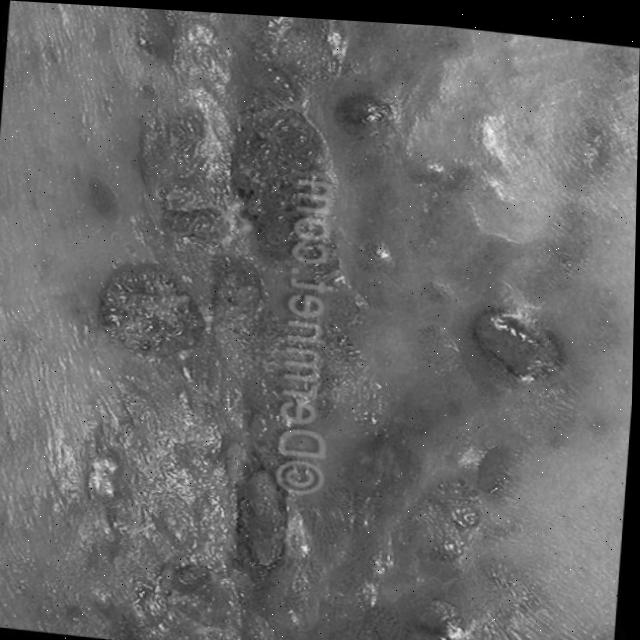Shingles: (126, 11, 553, 625)
